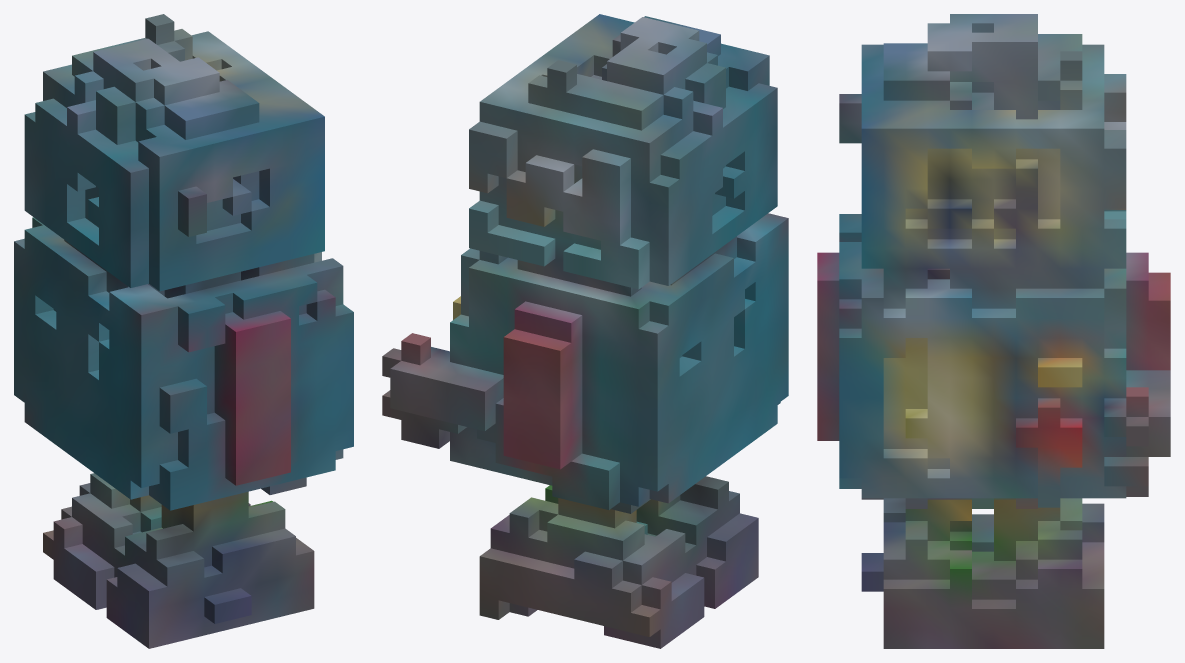
Rendered from ai-generated-robot.obj.
3 renders of one model, left to right at view 1: azimuth 30°, elevation 25°; view 2: azimuth 150°, elevation 25°; view 3: azimuth 270°, elevation 25°, orthographic. The views are drawn at different scales.
Parts seen in each view (by area): view 1: Mesh_0; view 2: Mesh_0; view 3: Mesh_0.
Part boxes in pixels (x1,y1,x2,y2): Mesh_0: (14,14,353,648); Mesh_0: (382,14,788,648); Mesh_0: (817,14,1170,648).
Size of the model in its own units: 0.9187 by 1.84 by 1.05.
